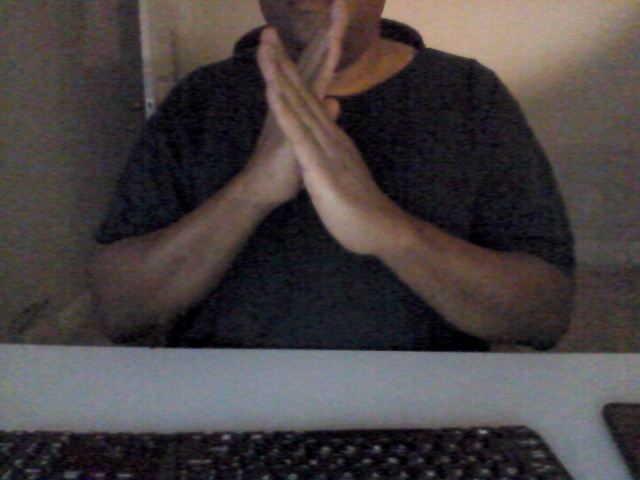quiet: (251, 7, 384, 263)
